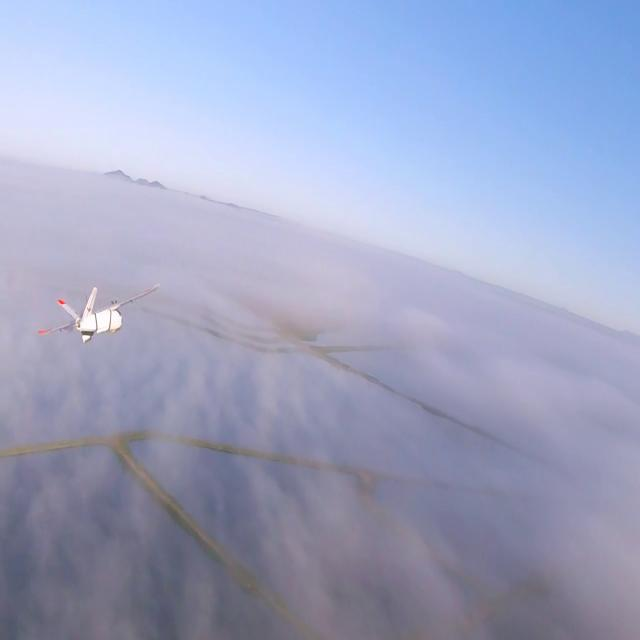iha: (6, 311, 66, 315)
